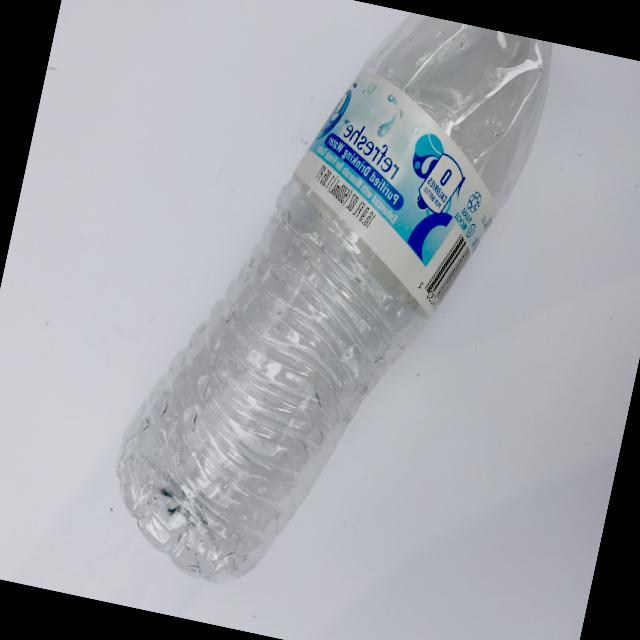Plastic: (67, 0, 585, 640)
